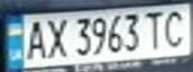3: (121, 10, 145, 53), (69, 14, 93, 57)
6: (106, 11, 127, 55)
9: (90, 14, 109, 56)
A: (21, 16, 48, 61)
C: (160, 7, 193, 50)
T: (139, 8, 169, 51)
X: (42, 15, 69, 60)
